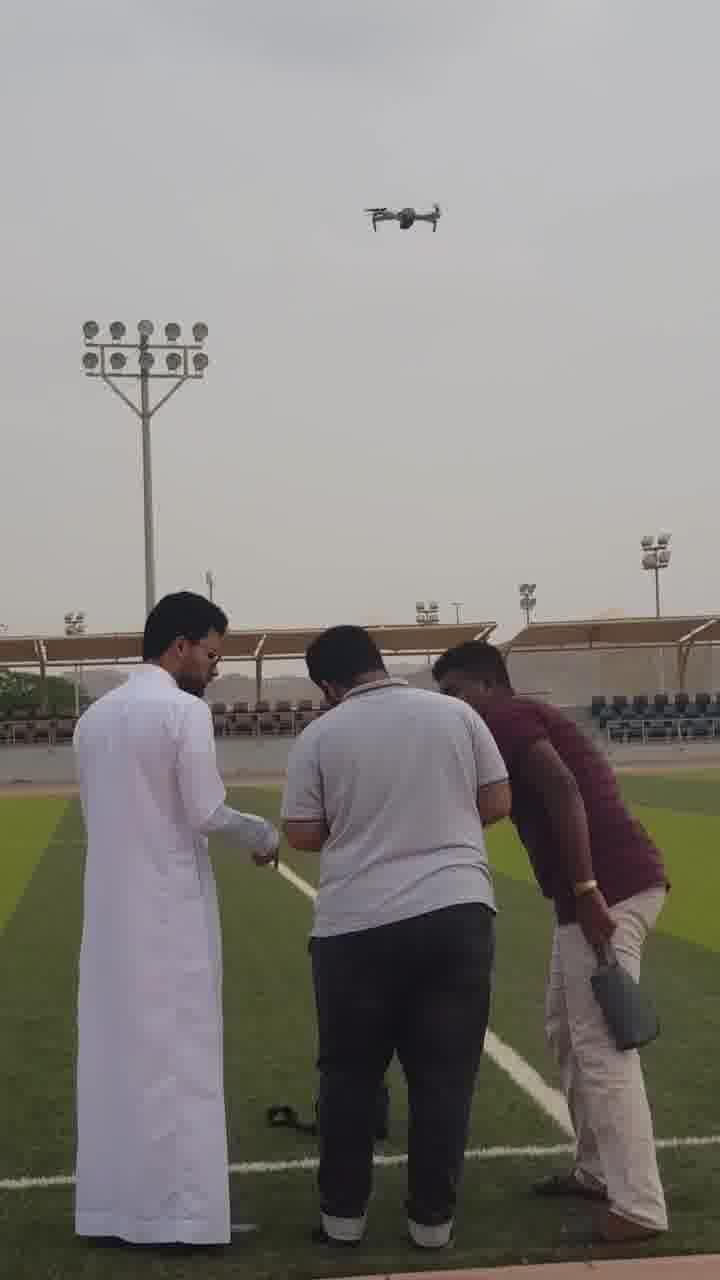drone: (348, 199, 448, 238)
